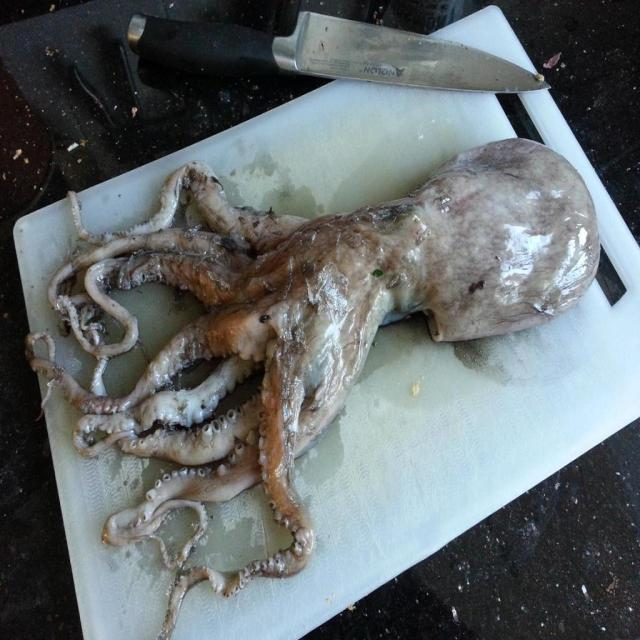Knife: (126, 11, 548, 92)
